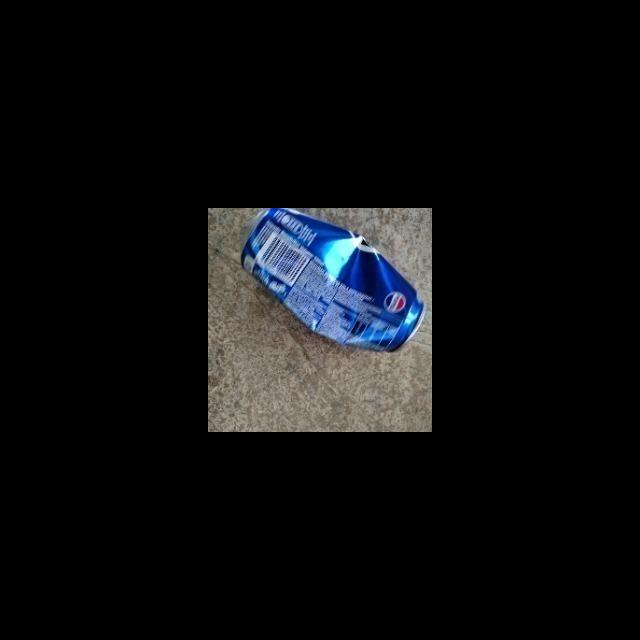metal: (237, 208, 427, 360)
